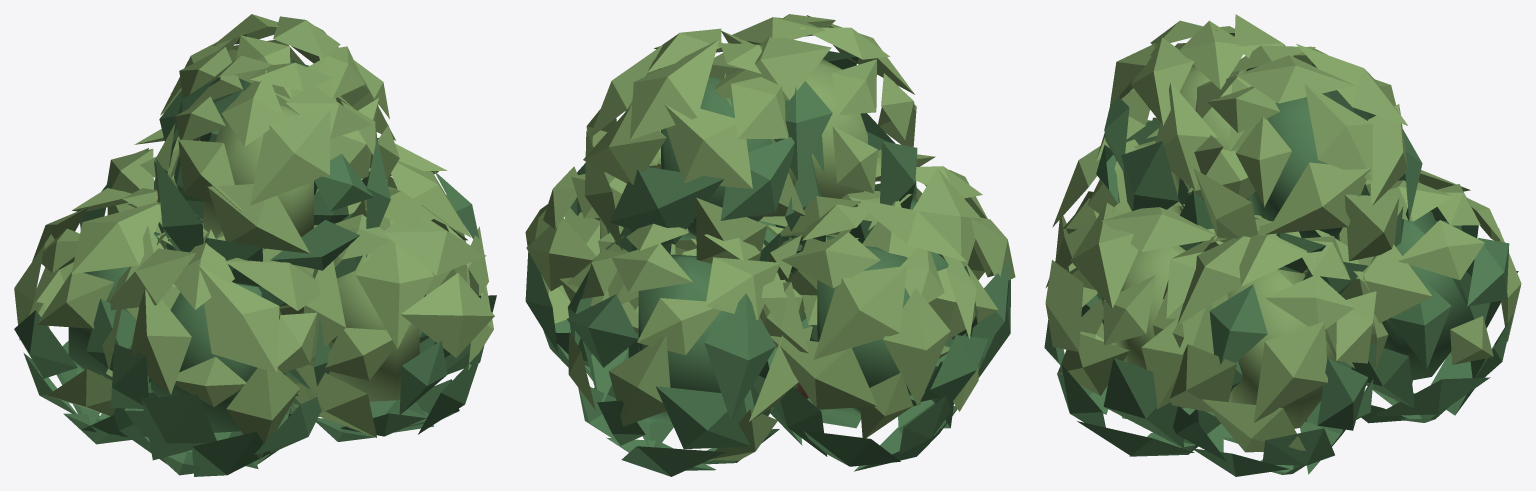
File: shrub.small-far.glb
The picture shows the model from 3 angles, left to right: view 1: azimuth 30°, elevation 25°; view 2: azimuth 150°, elevation 25°; view 3: azimuth 270°, elevation 25°; orthographic projection. The views are drawn at different scales.
Visible parts, largest first — view 1: Low woody shoot; view 2: Low woody shoot; view 3: Low woody shoot.
Boxes of the visible parts, left/top/right/bottom form: Low woody shoot: left=14, top=14, right=496, bottom=476; Low woody shoot: left=525, top=14, right=1015, bottom=476; Low woody shoot: left=1044, top=14, right=1521, bottom=476.
Bounding box in the file's own units: 0.6279 × 0.5182 × 0.5844.
